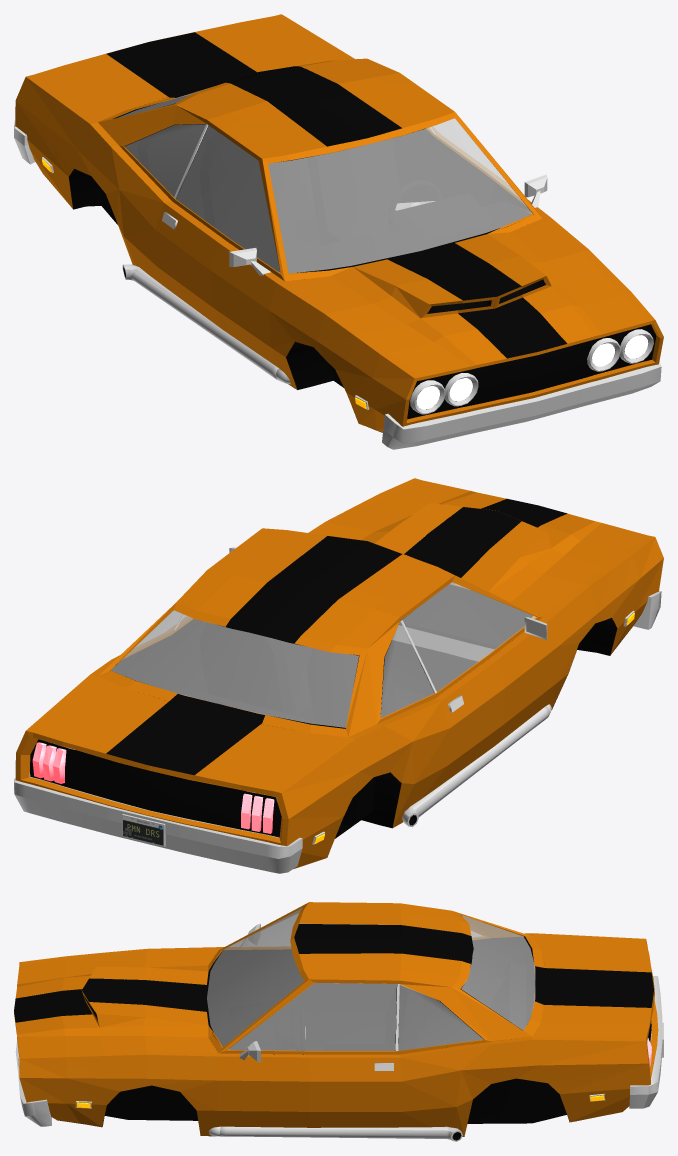
The model's file is chassis-draco.glb.
3 renders of one model, top to bottom at view 1: azimuth 30°, elevation 25°; view 2: azimuth 150°, elevation 25°; view 3: azimuth 270°, elevation 25°, orthographic. The views are drawn at different scales.
Visible parts, largest first — view 1: Chassis, Cabin_Grilles, Glass, Chrome, Undercarriage, HeadLights; view 2: Chassis, Cabin_Grilles, Glass, Chrome, Undercarriage, BrakeLights, License; view 3: Chassis, Glass, Cabin_Grilles, Chrome, Undercarriage.
Part boxes in pixels (x1=…): Chassis: x1=15, y1=14, x2=663, y2=432; Cabin_Grilles: x1=113, y1=68, x2=656, y2=419; Glass: x1=118, y1=59, x2=532, y2=273; Chrome: x1=14, y1=120, x2=661, y2=449; Undercarriage: x1=68, y1=168, x2=550, y2=432; HeadLights: x1=416, y1=335, x2=648, y2=409; Chassis: x1=15, y1=478, x2=663, y2=869; Cabin_Grilles: x1=30, y1=505, x2=532, y2=837; Glass: x1=111, y1=539, x2=536, y2=727; Chrome: x1=14, y1=536, x2=661, y2=873; Undercarriage: x1=75, y1=520, x2=627, y2=857; BrakeLights: x1=32, y1=742, x2=274, y2=833; License: x1=122, y1=814, x2=165, y2=846; Chassis: x1=14, y1=902, x2=658, y2=1136; Glass: x1=207, y1=908, x2=535, y2=1050; Cabin_Grilles: x1=205, y1=936, x2=651, y2=1118; Chrome: x1=15, y1=923, x2=662, y2=1141; Undercarriage: x1=58, y1=978, x2=569, y2=1140.
Bounding box in the file's own units: 2.18 × 1.18 × 4.72.
10 materials, 1 textured.
